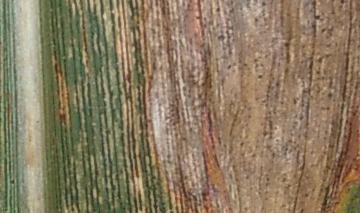tarspot: (8, 177, 17, 185)
